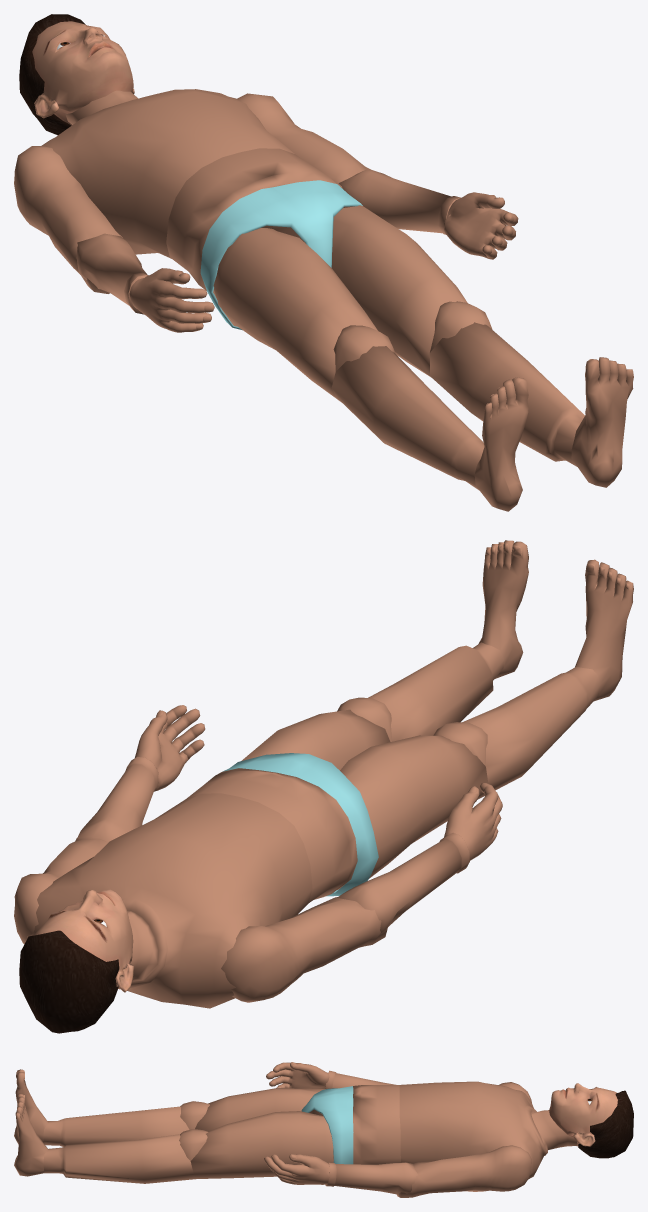
The model's file is maneken (3).fbx.
3 views of the same model, one above another, from view 1: azimuth 30°, elevation 25°; view 2: azimuth 150°, elevation 25°; view 3: azimuth 270°, elevation 25° (orthographic). The views are drawn at different scales.
Visible parts, largest first — view 1: Object_9.001, Object_9.002, Object_9.003; view 2: Object_9.001, Object_9.003, Object_9.002; view 3: Object_9.001, Object_9.002, Object_9.003.
Part boxes in pixels (x1,y1,x2,y2): Object_9.001: (14,89,633,511); Object_9.002: (32,21,134,125); Object_9.003: (19,14,85,135); Object_9.001: (14,540,633,1008); Object_9.003: (19,930,119,1033); Object_9.002: (35,889,134,992); Object_9.001: (14,1062,577,1197); Object_9.002: (549,1083,617,1146); Object_9.003: (578,1090,633,1158).
Bounding box in the file's own units: 79.38 × 32.01 × 202.
Materials: 5 (3 with a texture image).
